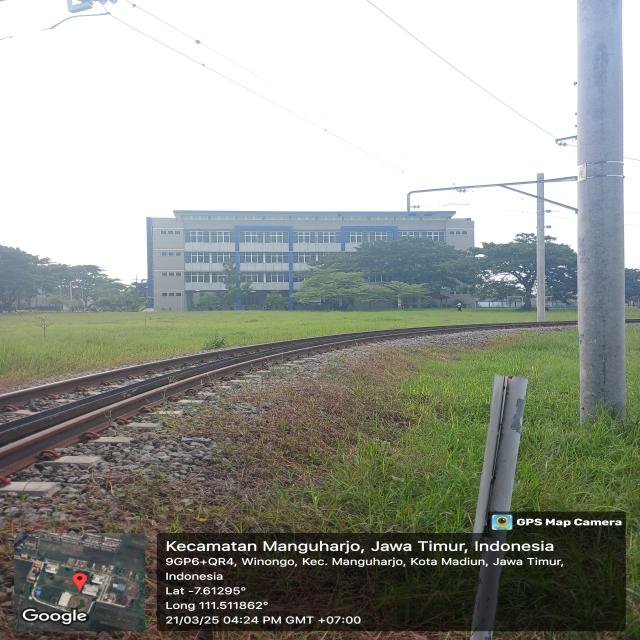rail-detection: (0, 322, 573, 488)
